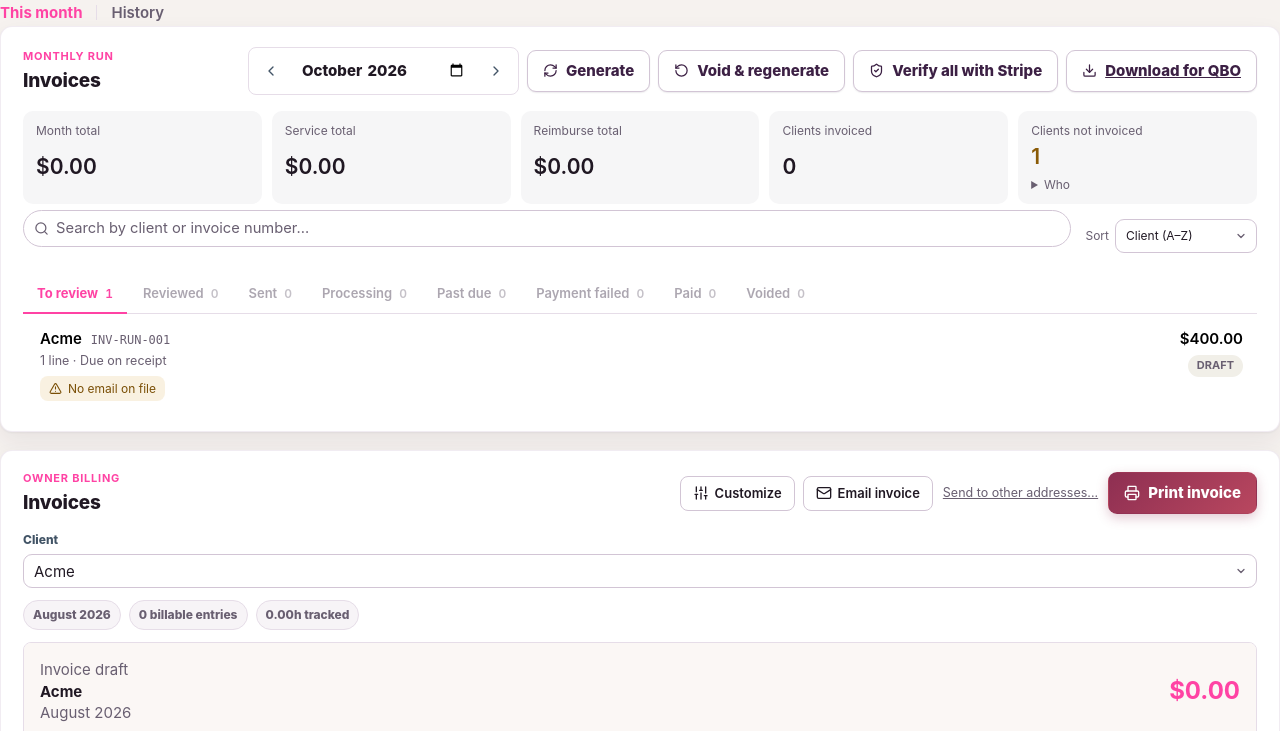
it: InvoicesPage — This month / History › hides the month view rather than unmounting it, so open edits survive
Click the text "INV-RUN-001". click: (131, 341)
box: [91,332,170,350]
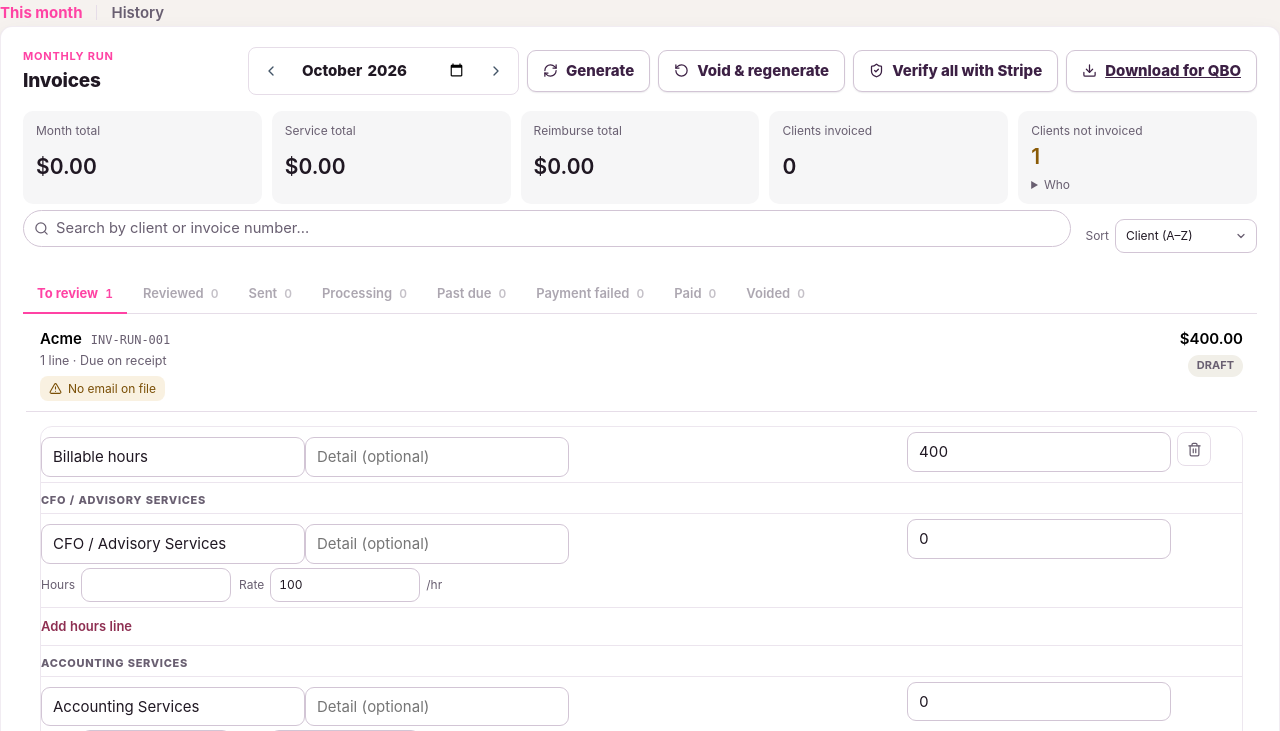
Replace the text in the field named "Line description" with "Billable hours — corrected". click: (173, 457)
box: [41,437,305,477]
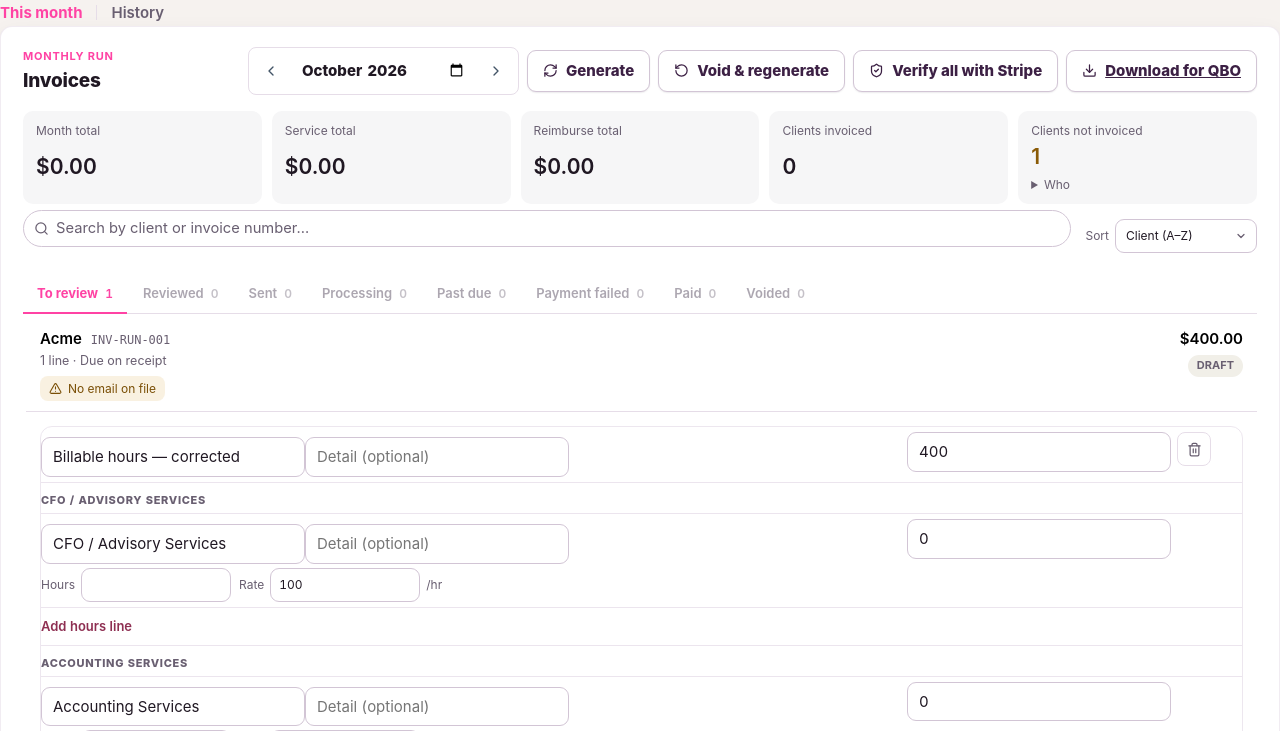
Click the button "History". click: (138, 13)
box: [112,0,164,26]
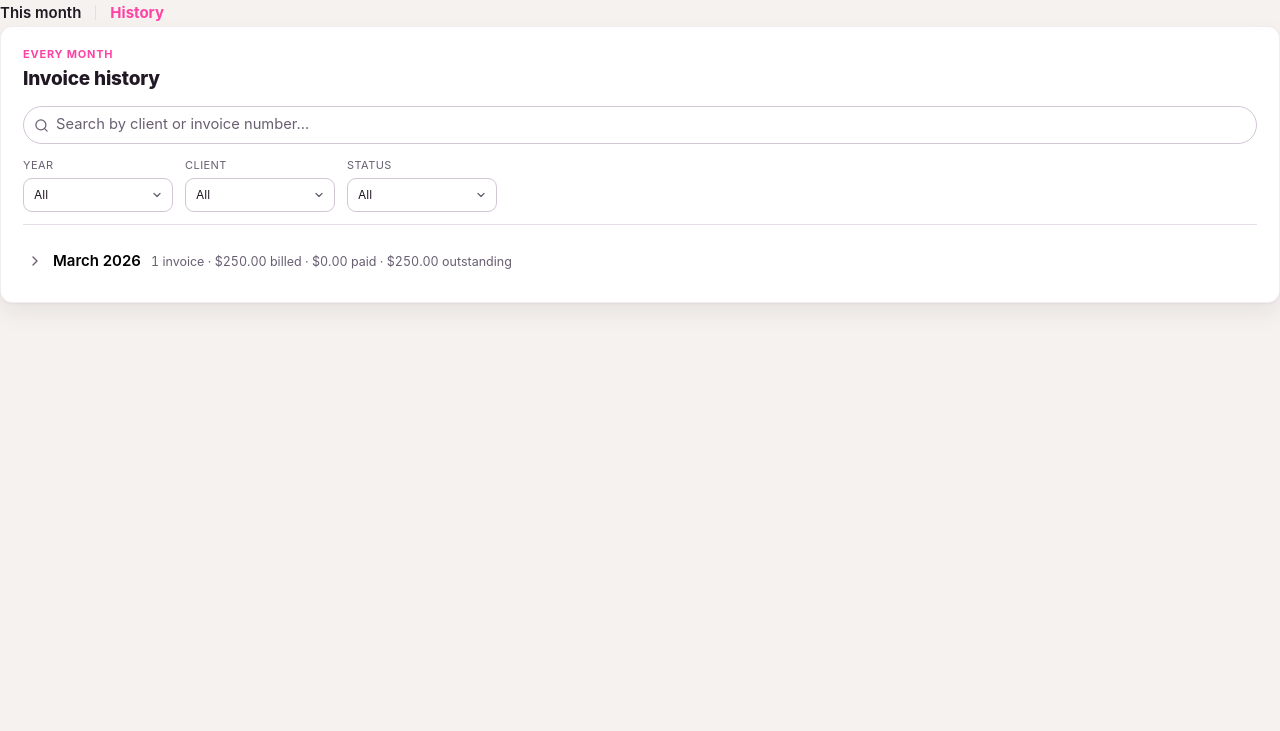
Now the heading "Invoice history" is shown, box [23,67,160,90]
